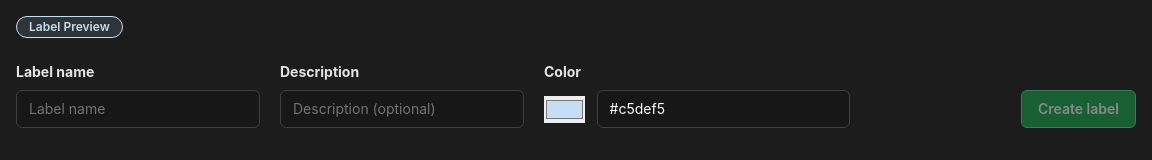
Test: create mode › label › label name updated when name input typed
This screenshot has width=1152, height=160.
Type "test label" into the field with test id "text-input".
click(138, 109); type("test label")  # box [16,90,260,128]
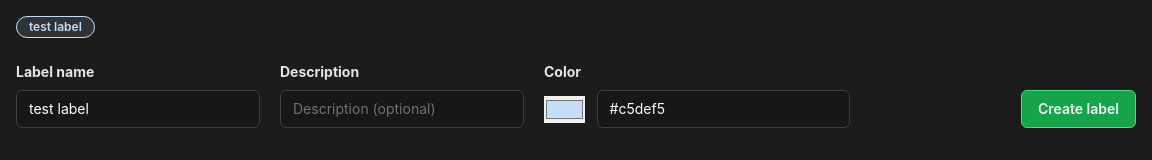
Expected: the text with test id "label" reads "test label", [29,19,82,34]
